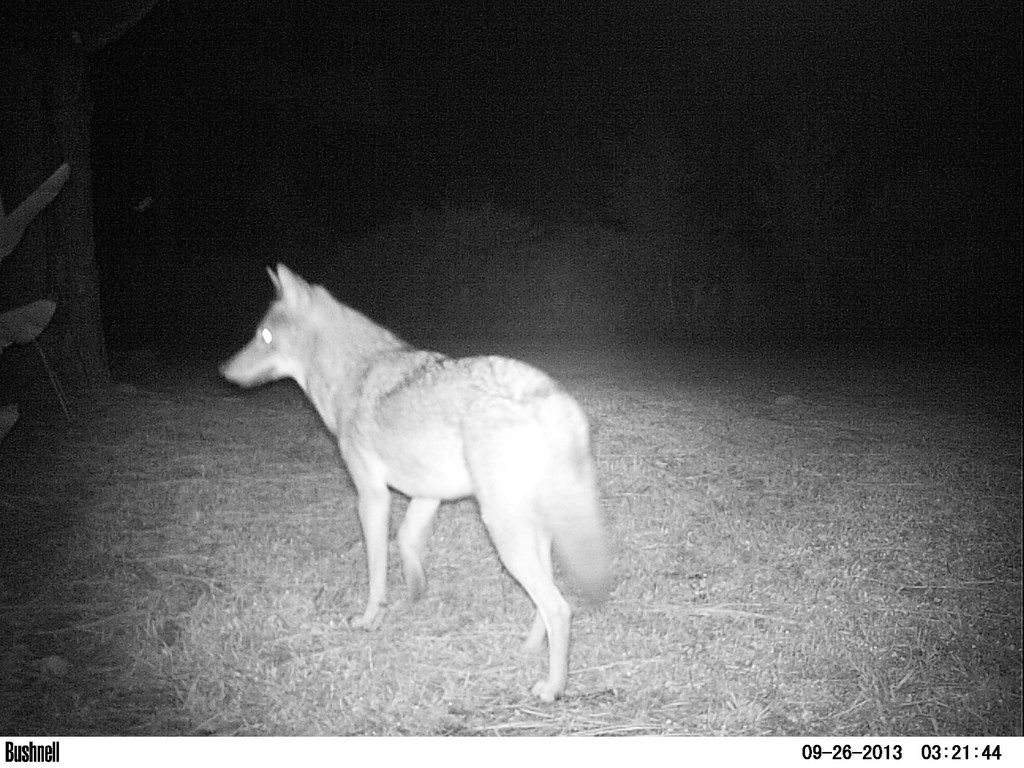coyote: (210, 216, 636, 698)
